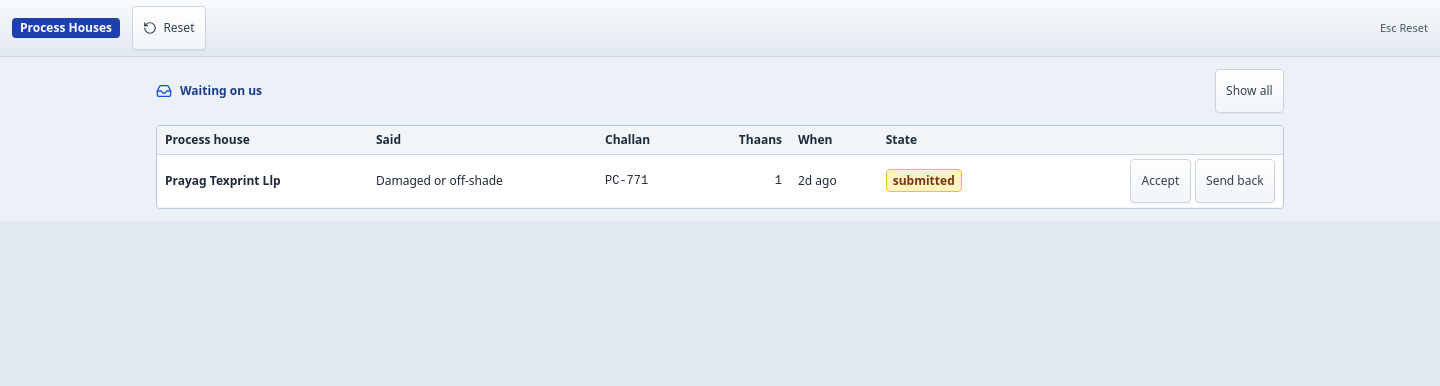
Test: the inbox › opening one shows the thaans and the reason they gave
The image size is (1440, 386).
Expected: the text "Prayag Texprint Llp" is shown, [157,154,368,208]
Click the text "Damaged or off-shade".
click(482, 181)  # box [368,154,597,208]
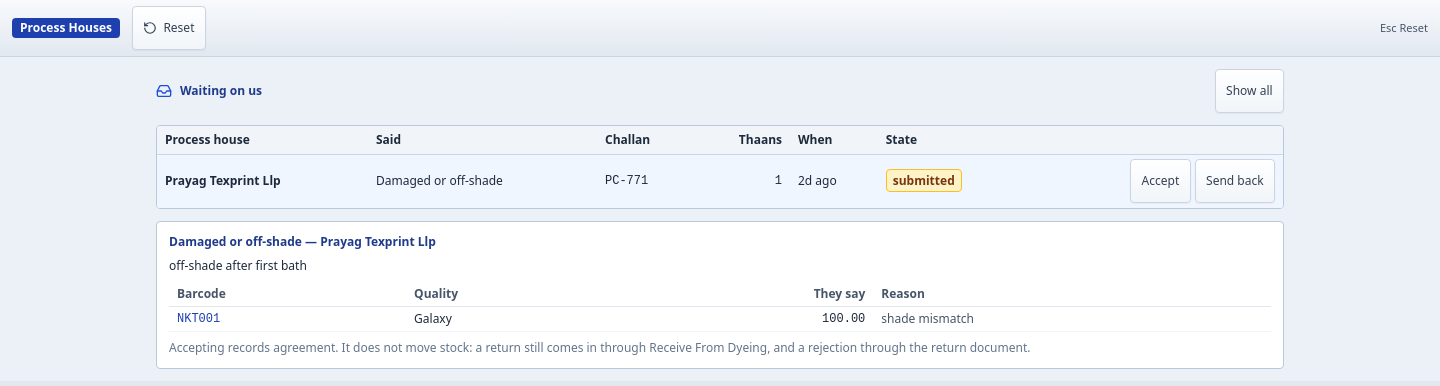
Expected: the text "NKT001" is shown, [169,306,406,332]
Expected: the text "shade mismatch" is shown, [873,306,1271,332]
Expected: the text "does not move stock" is shown, [169,339,1030,356]
